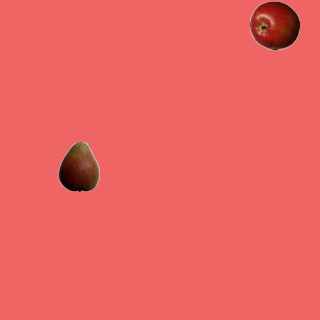Apple Braeburn: (249, 0, 299, 50)
Pear Forelle: (53, 141, 103, 191)
